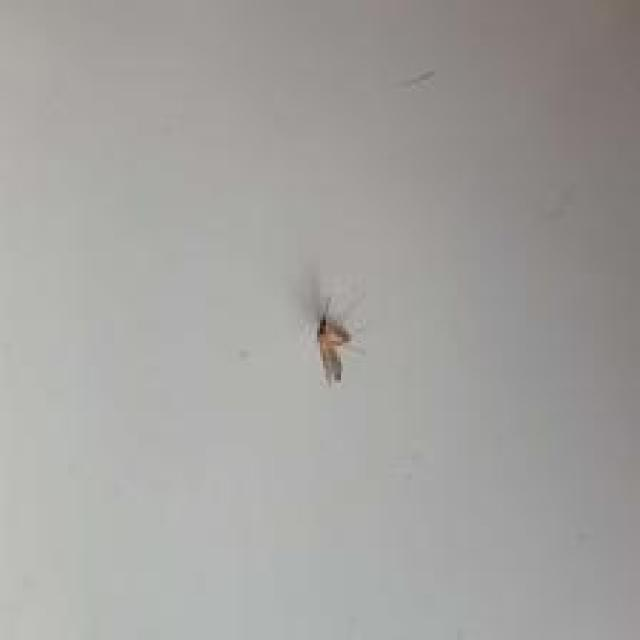Culex: (314, 294, 366, 386)
